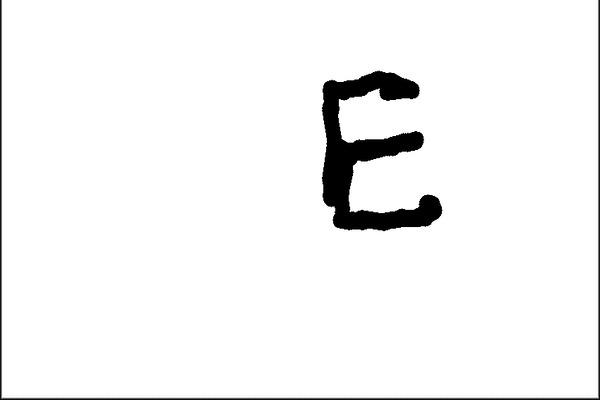E: (315, 64, 448, 229)
